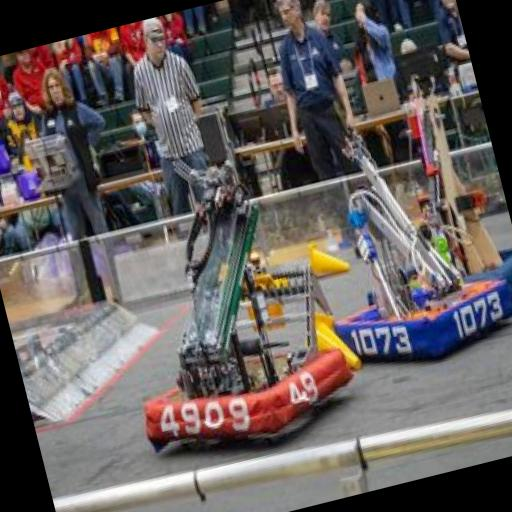robot: (72, 120, 371, 477), (278, 91, 512, 389), (373, 71, 512, 323)
